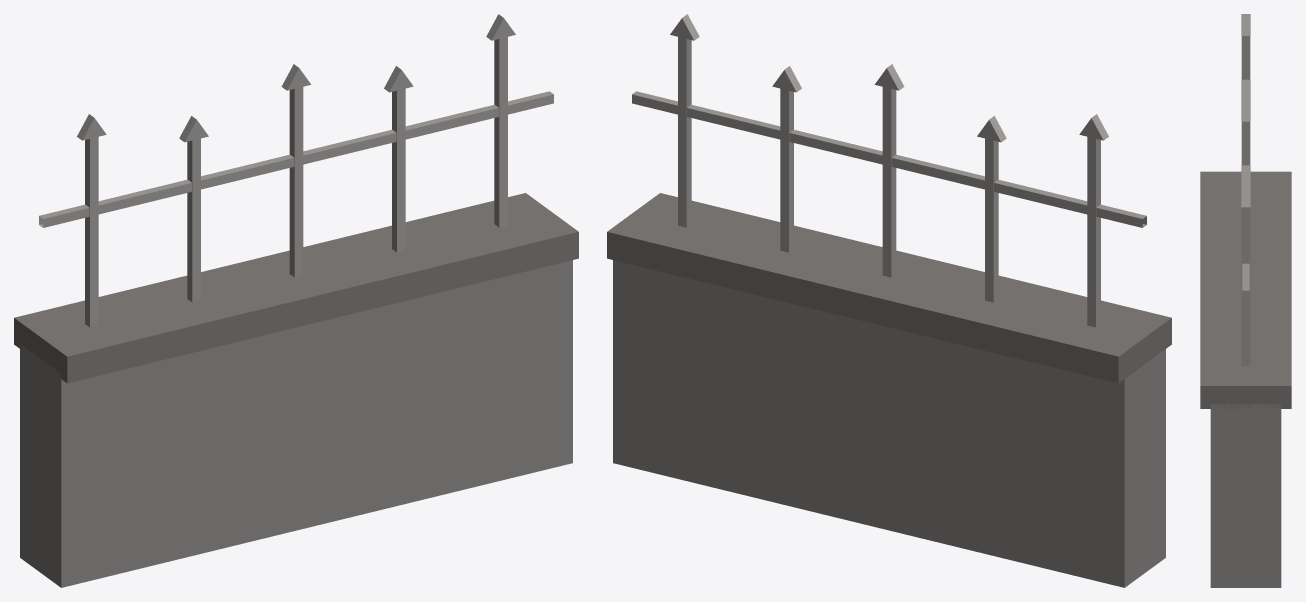
File: SM_Bldg_City_Apartment_Fence_04.fbx
The picture shows the model from 3 angles, left to right: view 1: azimuth 30°, elevation 25°; view 2: azimuth 150°, elevation 25°; view 3: azimuth 270°, elevation 25°; orthographic projection. The views are drawn at different scales.
Parts seen in each view (by area): view 1: SM_Bldg_City_Apartment_Fence_04; view 2: SM_Bldg_City_Apartment_Fence_04; view 3: SM_Bldg_City_Apartment_Fence_04.
Part boxes in pixels (x1,y1,x2,y2): SM_Bldg_City_Apartment_Fence_04: [14, 14, 578, 587]; SM_Bldg_City_Apartment_Fence_04: [607, 14, 1171, 587]; SM_Bldg_City_Apartment_Fence_04: [1200, 14, 1291, 587].
Size of the model in its own units: 120 by 99.6 by 21.6.
